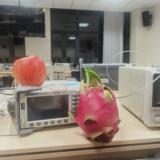apple: (13, 56, 47, 86)
pitaya: (71, 68, 120, 144)
